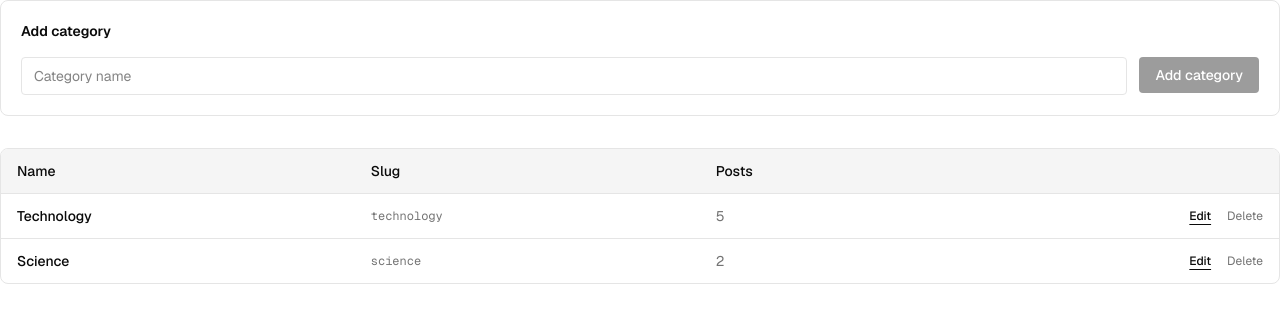
Test: CategoryManager › save edit shows error on failure
Click the 1st button "Edit". click: (1200, 216)
box: [1189,208,1211,224]
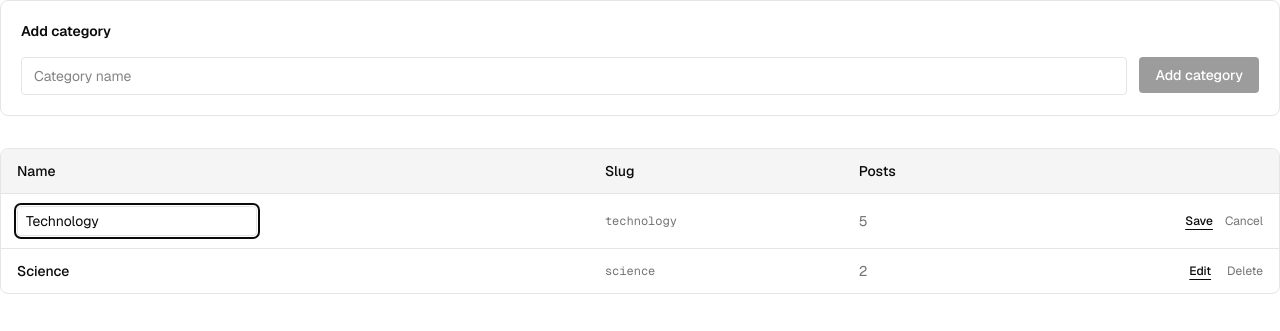
Click the button "Save". click: (1199, 221)
box: [1185,213,1213,229]
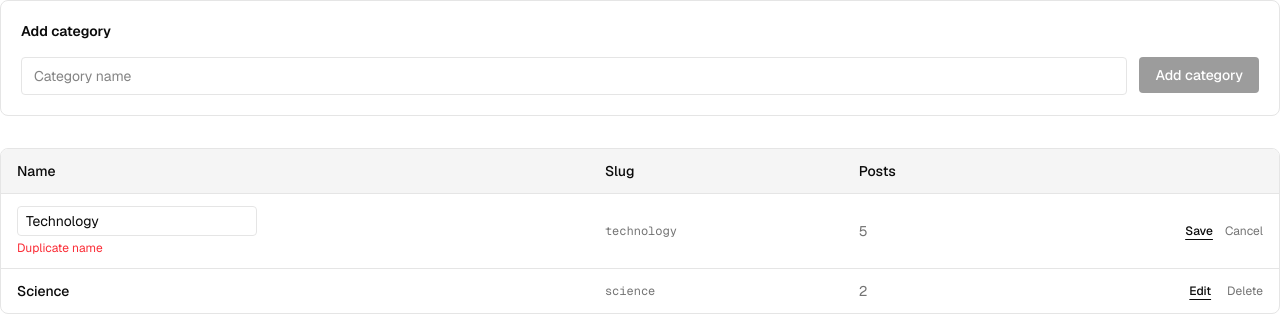
Expected: the text "Duplicate name" is shown, [17,240,103,256]
